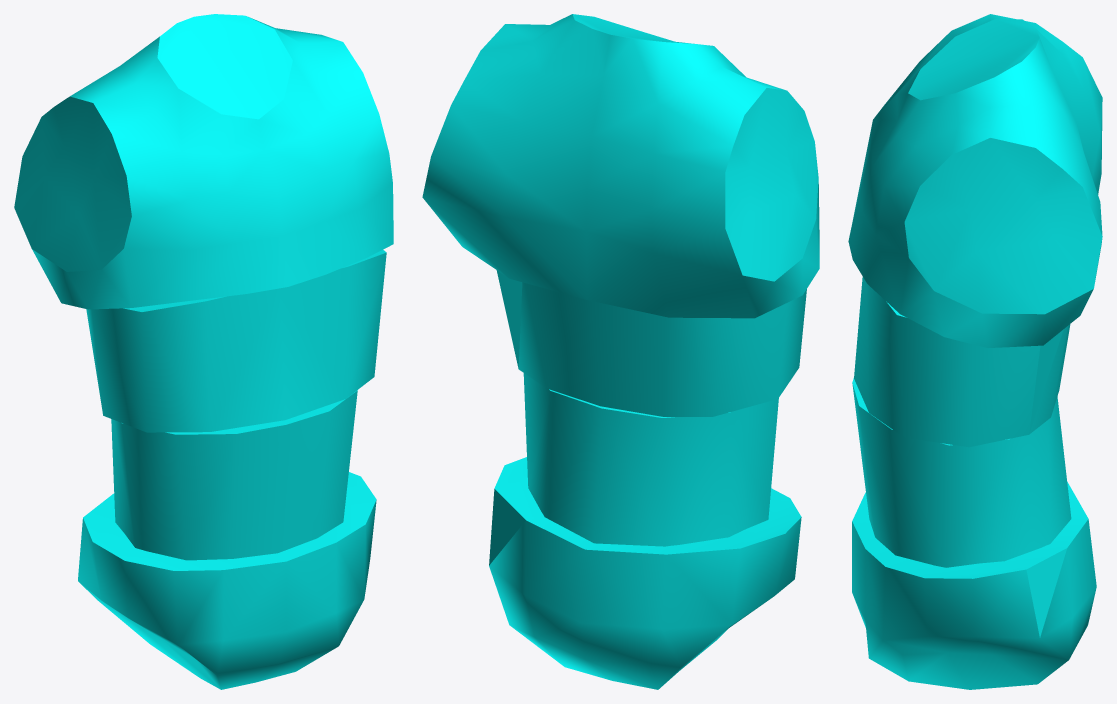
The model's file is player_body.obj.
The picture shows the model from 3 angles, left to right: view 1: azimuth 30°, elevation 25°; view 2: azimuth 150°, elevation 25°; view 3: azimuth 270°, elevation 25°; orthographic projection. The views are drawn at different scales.
Visible parts, largest first — view 1: player_body; view 2: player_body; view 3: player_body.
Boxes of the visible parts, left/top/right/bottom form: player_body: left=14, top=14, right=393, bottom=689; player_body: left=422, top=14, right=819, bottom=689; player_body: left=848, top=14, right=1102, bottom=689.
Bounding box in the file's own units: 0.3788 × 0.72 × 0.2577.
